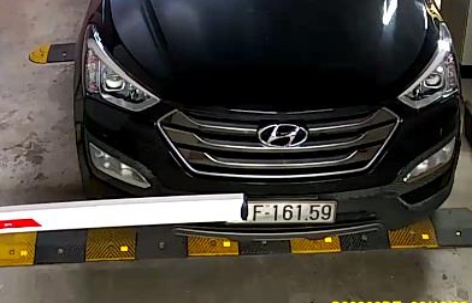plate: (227, 190, 347, 235)
